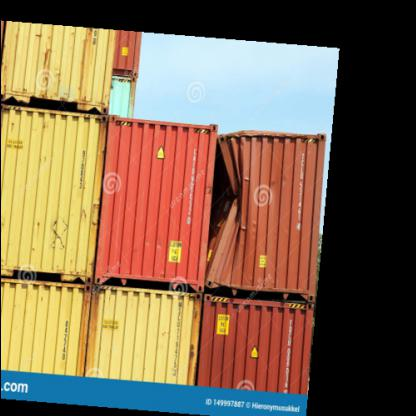Damage: (198, 124, 246, 270), (31, 25, 63, 81), (180, 302, 203, 354), (48, 219, 76, 252)
